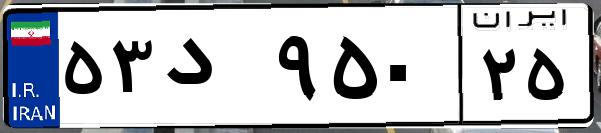0: (385, 28, 445, 110)
2: (475, 38, 525, 113)
3: (110, 28, 158, 98)
5: (330, 28, 385, 110), (57, 26, 110, 100), (525, 38, 570, 115)
9: (270, 28, 330, 110)
د: (158, 20, 270, 120)
